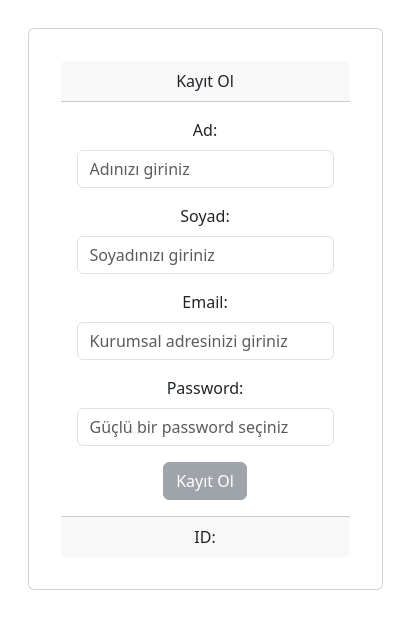
Test: Register Page › Error Messages › Surname input throws error for 2 chars
Type "ak" into the field with test id "soyad-input". click: coordinates (206, 255)
box: 77,236 -> 334,274
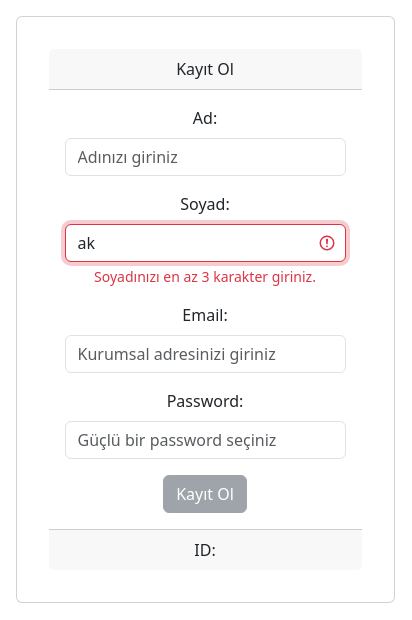
Check: the text "Soyadınızı en az 3 karakter giriniz." is shown, box 94,266 -> 316,286
